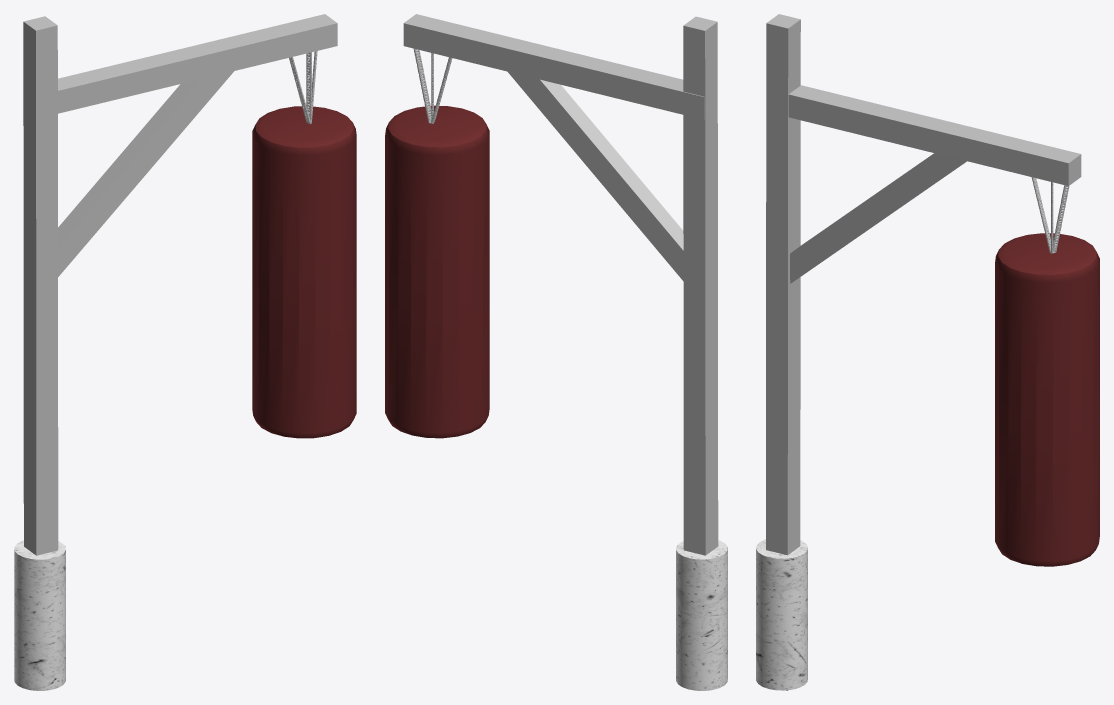
Rendered from boxing bag with texture.fbx.
3 views of the same model, side by side, from view 1: azimuth 30°, elevation 25°; view 2: azimuth 150°, elevation 25°; view 3: azimuth 330°, elevation 25° (orthographic).
Parts seen in each view (by area): view 1: polySurface610, polySurface565, polySurface602, polySurface583, polySurface632, polySurface655; view 2: polySurface610, polySurface565, polySurface602, polySurface583, polySurface632, polySurface655; view 3: polySurface610, polySurface565, polySurface602, polySurface632, polySurface583, polySurface655.
Boxes of the visible parts, <box> form: polySurface610: <box>252,106,356,438</box>; polySurface565: <box>23,16,58,555</box>; polySurface602: <box>58,14,337,113</box>; polySurface583: <box>58,71,233,276</box>; polySurface632: <box>14,540,65,690</box>; polySurface655: <box>289,51,317,124</box>; polySurface610: <box>385,105,489,438</box>; polySurface565: <box>683,16,718,555</box>; polySurface602: <box>403,14,704,119</box>; polySurface583: <box>508,72,683,281</box>; polySurface632: <box>676,540,727,690</box>; polySurface655: <box>413,48,452,123</box>; polySurface610: <box>995,233,1099,566</box>; polySurface565: <box>766,14,800,690</box>; polySurface602: <box>788,85,1081,185</box>; polySurface632: <box>756,539,807,690</box>; polySurface583: <box>790,153,966,283</box>; polySurface655: <box>1031,177,1069,253</box>.
Bounding box in the file's own units: 170 × 323 × 46.6.
